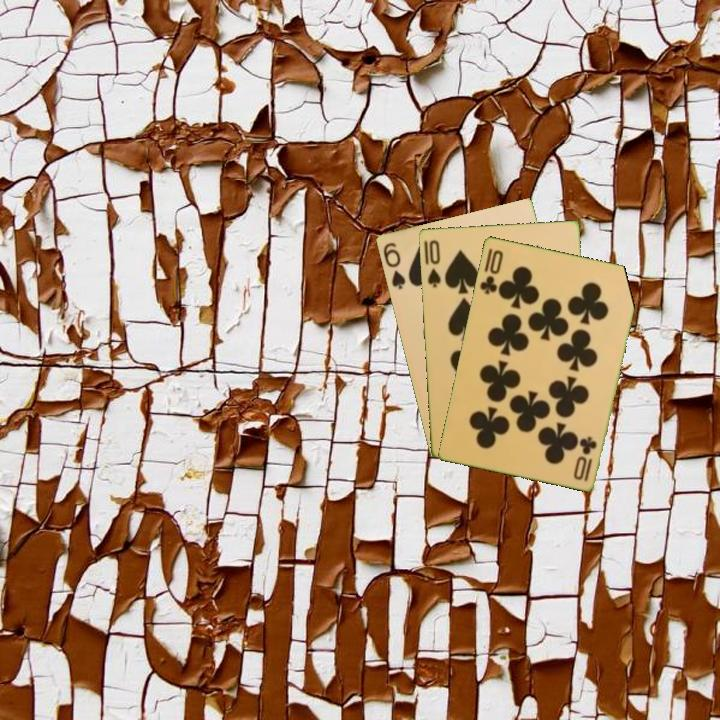10c: (476, 244, 506, 297), (570, 432, 599, 484)
10s: (423, 236, 443, 290)
6s: (379, 239, 408, 292)
